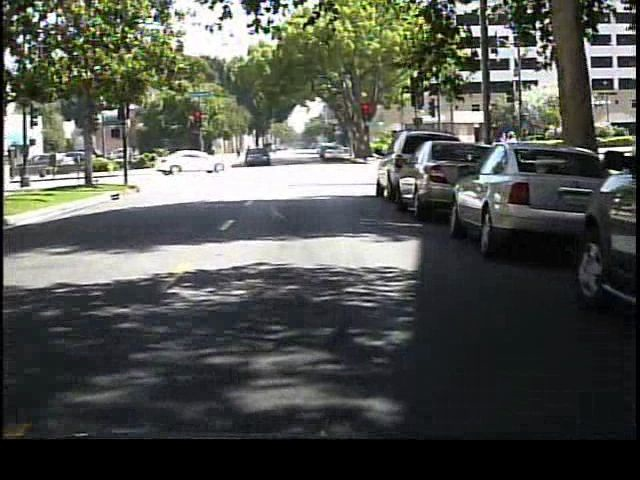person: (240, 143, 255, 170)
